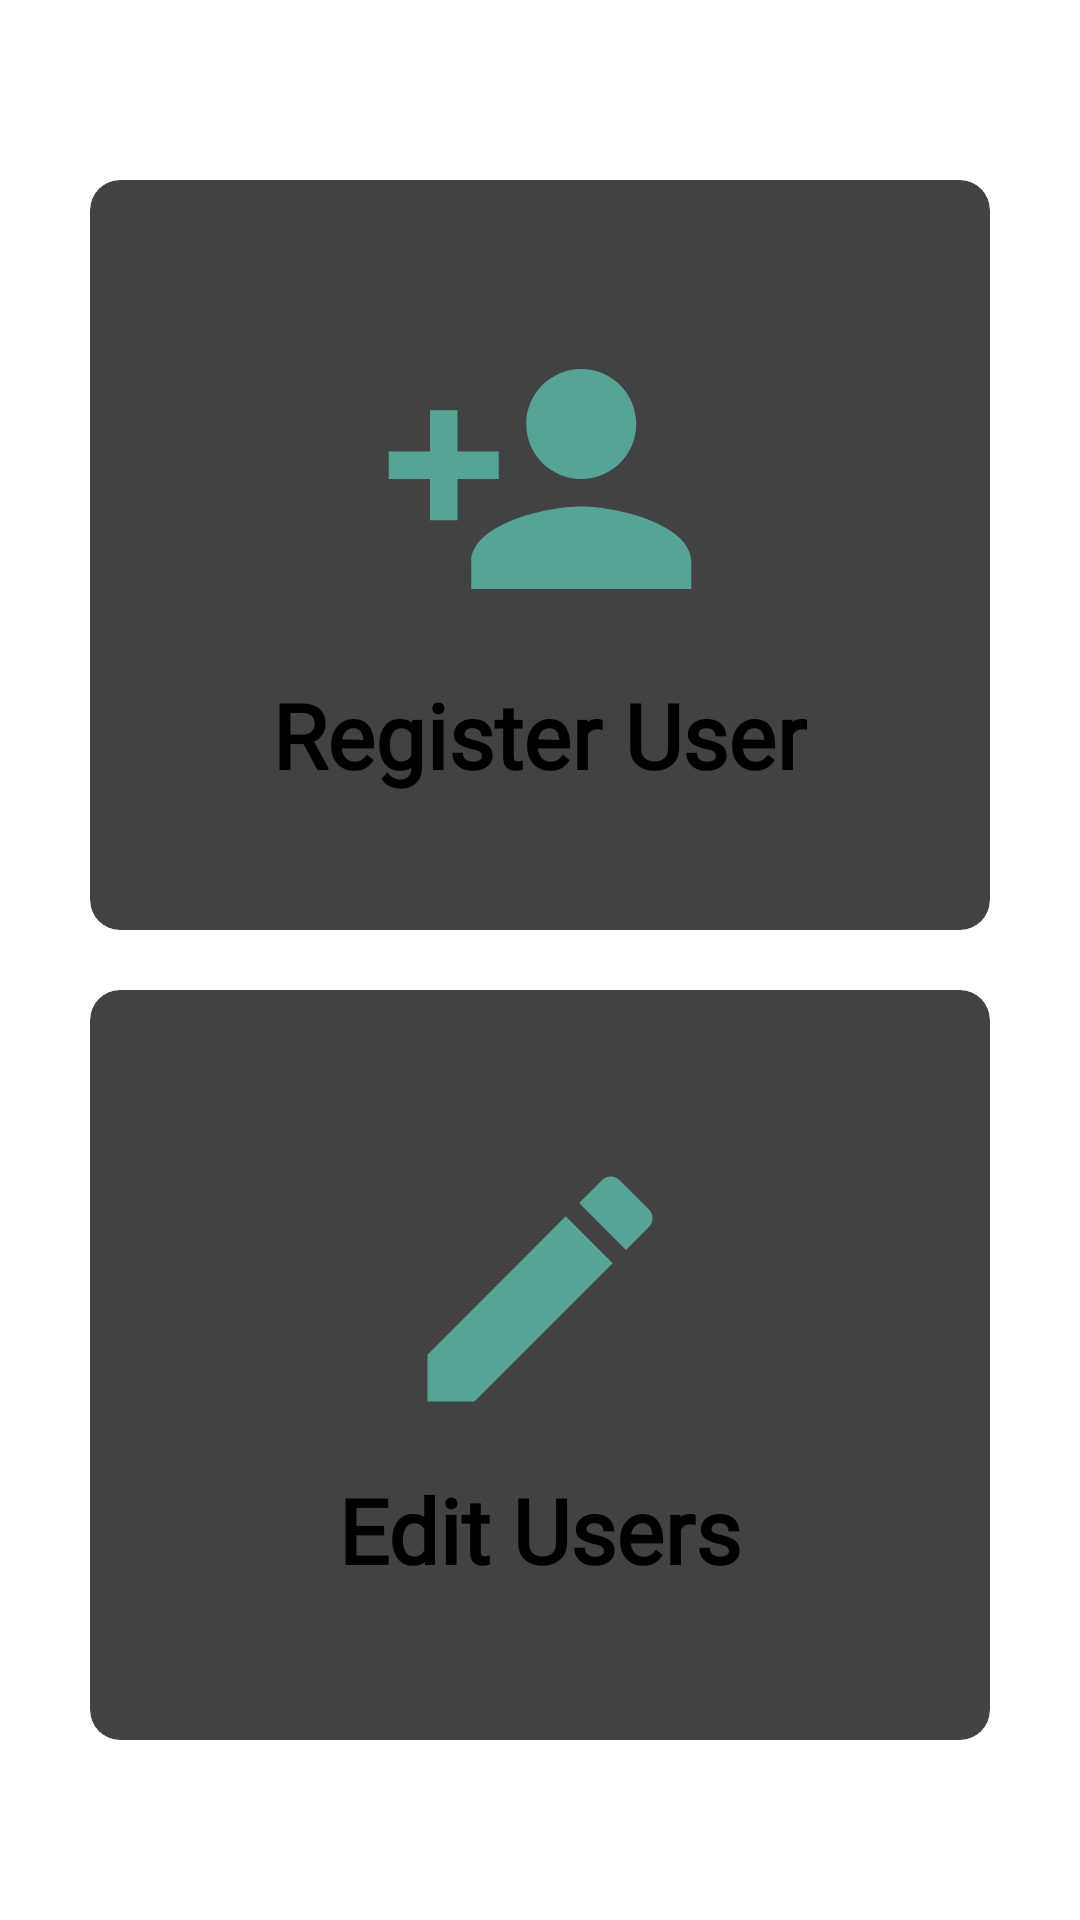

Screen size 1080x1920. Icon name, then its box in pixels as (x1, y1, x2, y2):
person add: (388, 369, 692, 589)
